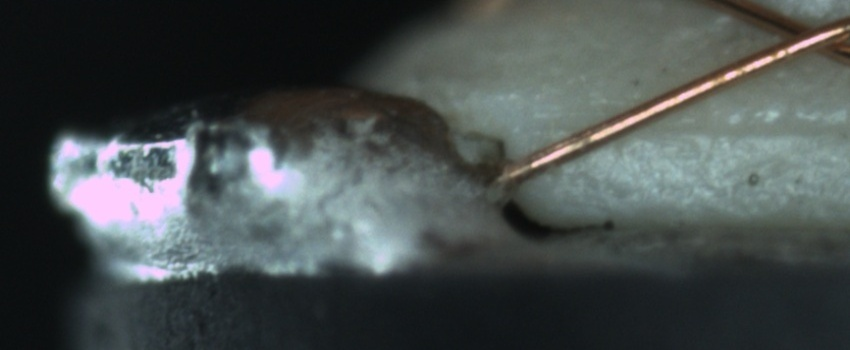CL: (753, 5, 849, 65)
DL: (565, 96, 848, 162)
